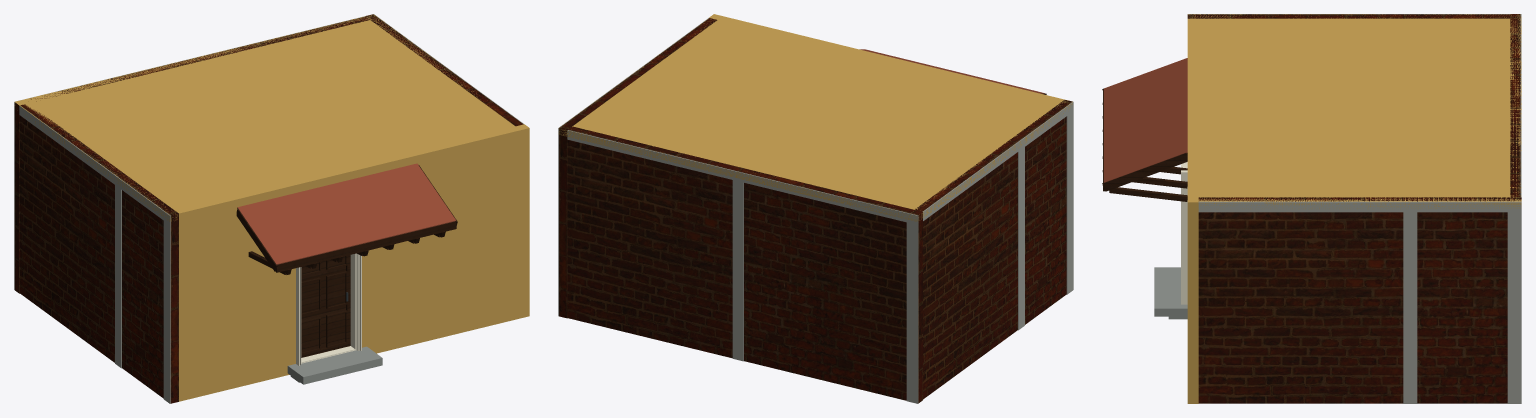
File: building.glb
The picture shows the model from 3 angles, left to right: view 1: azimuth 30°, elevation 25°; view 2: azimuth 150°, elevation 25°; view 3: azimuth 270°, elevation 25°; orthographic projection. The views are drawn at different scales.
Parts seen in each view (by area): view 1: roof/house:0/roof_slab#0001, house:0/edge0/z0/house:0/edge0/z0/wall_0_0, house:0/edge3/z0/house:0/edge3/z0/wall_0_0, roof_assembly/marquesina/roof_cover#0001, house:0/edge2/z0/house:0/edge2/z0/wall_0_0, site/entrance/0/entrance_step#0002, house:0/edge3/z0/house:0/edge3/z0/beam_0_0, roof_assembly/marquesina/roof_fascia#0002, house:0/edge3/z0/house:0/edge3/z0/column_1_0, house:0/edge1/z0/house:0/edge1/z0/wall_0_0, house:0/edge3/z0/house:0/edge3/z0/column_2_0, house:0/edge0/z0/opening_u2.80_v0.12/door_panel_back#0001 (+7 smaller); view 2: house:0/edge2/z0/house:0/edge2/z0/wall_0_0, roof/house:0/roof_slab#0001, house:0/edge3/z0/house:0/edge3/z0/wall_0_0, house:0/edge2/z0/house:0/edge2/z0/beam_0_0, house:0/edge1/z0/house:0/edge1/z0/wall_0_0, house:0/edge2/z0/house:0/edge2/z0/column_1_0, house:0/edge2/z0/house:0/edge2/z0/column_2_0, house:0/edge0/z0/house:0/edge0/z0/wall_0_0, house:0/edge3/z0/house:0/edge3/z0/beam_0_0, house:0/edge3/z0/house:0/edge3/z0/column_1_0, house:0/edge3/z0/house:0/edge3/z0/column_2_0; view 3: roof/house:0/roof_slab#0001, house:0/edge1/z0/house:0/edge1/z0/wall_0_0, roof_assembly/marquesina/roof_cover#0001, house:0/edge0/z0/house:0/edge0/z0/wall_0_0, house:0/edge1/z0/house:0/edge1/z0/beam_0_0, house:0/edge1/z0/house:0/edge1/z0/column_1_0, house:0/edge1/z0/house:0/edge1/z0/column_2_0, house:0/edge2/z0/house:0/edge2/z0/wall_0_0, house:0/edge3/z0/house:0/edge3/z0/wall_0_0, site/entrance/0/entrance_step#0002, house:0/edge0/z0/opening_u2.80_v0.12/door_moulding#0028, roof_assembly/marquesina/roof_fascia#0003 (+2 smaller).
Boxes of the visible parts, x1,y1,x2,y2 form: roof/house:0/roof_slab#0001: [14, 15, 527, 221]; house:0/edge0/z0/house:0/edge0/z0/wall_0_0: [174, 124, 529, 401]; house:0/edge3/z0/house:0/edge3/z0/wall_0_0: [20, 104, 178, 403]; roof_assembly/marquesina/roof_cover#0001: [237, 163, 456, 264]; house:0/edge2/z0/house:0/edge2/z0/wall_0_0: [14, 16, 369, 293]; site/entrance/0/entrance_step#0002: [287, 346, 382, 384]; house:0/edge3/z0/house:0/edge3/z0/beam_0_0: [19, 106, 170, 224]; roof_assembly/marquesina/roof_fascia#0002: [276, 221, 456, 272]; house:0/edge3/z0/house:0/edge3/z0/column_1_0: [163, 221, 170, 403]; house:0/edge1/z0/house:0/edge1/z0/wall_0_0: [365, 14, 523, 126]; house:0/edge3/z0/house:0/edge3/z0/column_2_0: [115, 185, 121, 368]; house:0/edge0/z0/opening_u2.80_v0.12/door_panel_back#0001: [301, 261, 345, 348]; house:0/edge2/z0/house:0/edge2/z0/wall_0_0: [567, 126, 922, 403]; roof/house:0/roof_slab#0001: [558, 14, 1072, 221]; house:0/edge3/z0/house:0/edge3/z0/wall_0_0: [915, 100, 1072, 399]; house:0/edge2/z0/house:0/edge2/z0/beam_0_0: [567, 130, 918, 224]; house:0/edge1/z0/house:0/edge1/z0/wall_0_0: [559, 18, 717, 318]; house:0/edge2/z0/house:0/edge2/z0/column_1_0: [906, 222, 918, 403]; house:0/edge2/z0/house:0/edge2/z0/column_2_0: [732, 180, 743, 361]; house:0/edge0/z0/house:0/edge0/z0/wall_0_0: [709, 14, 1064, 102]; house:0/edge3/z0/house:0/edge3/z0/beam_0_0: [923, 101, 1073, 220]; house:0/edge3/z0/house:0/edge3/z0/column_1_0: [1066, 111, 1073, 294]; house:0/edge3/z0/house:0/edge3/z0/column_2_0: [1018, 147, 1024, 330]; roof/house:0/roof_slab#0001: [1187, 14, 1521, 208]; house:0/edge1/z0/house:0/edge1/z0/wall_0_0: [1198, 197, 1521, 403]; roof_assembly/marquesina/roof_cover#0001: [1104, 58, 1187, 182]; house:0/edge0/z0/house:0/edge0/z0/wall_0_0: [1187, 18, 1198, 403]; house:0/edge1/z0/house:0/edge1/z0/beam_0_0: [1198, 201, 1521, 212]; house:0/edge1/z0/house:0/edge1/z0/column_1_0: [1507, 212, 1521, 403]; house:0/edge1/z0/house:0/edge1/z0/column_2_0: [1403, 212, 1417, 403]; house:0/edge2/z0/house:0/edge2/z0/wall_0_0: [1510, 14, 1520, 197]; house:0/edge3/z0/house:0/edge3/z0/wall_0_0: [1187, 14, 1510, 18]; site/entrance/0/entrance_step#0002: [1154, 267, 1187, 316]; house:0/edge0/z0/opening_u2.80_v0.12/door_moulding#0028: [1181, 162, 1187, 304]; roof_assembly/marquesina/roof_fascia#0003: [1102, 153, 1187, 190].
Bounding box in the file's own units: 8 × 4.04 × 7.53.
8 materials, 2 textured.
